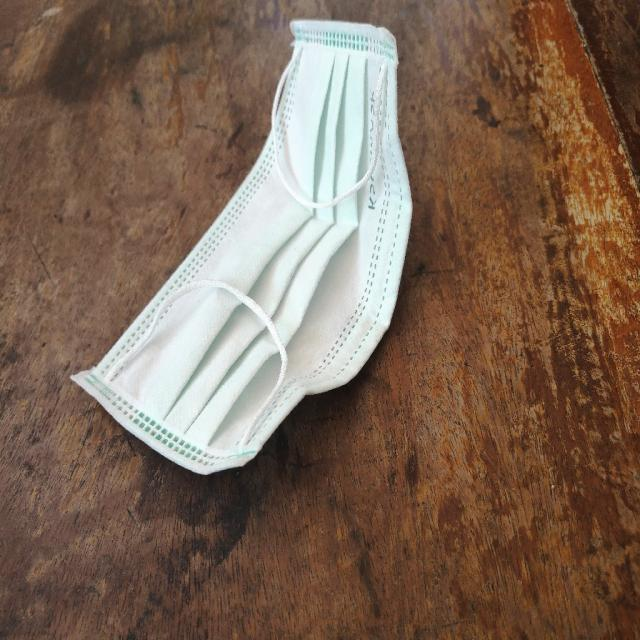face mask: (76, 25, 409, 472)
